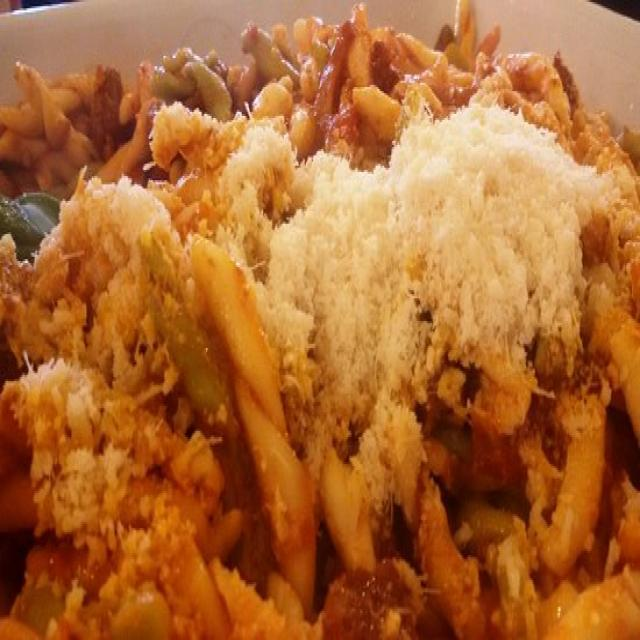Pasta al ragu: (15, 37, 629, 613)
